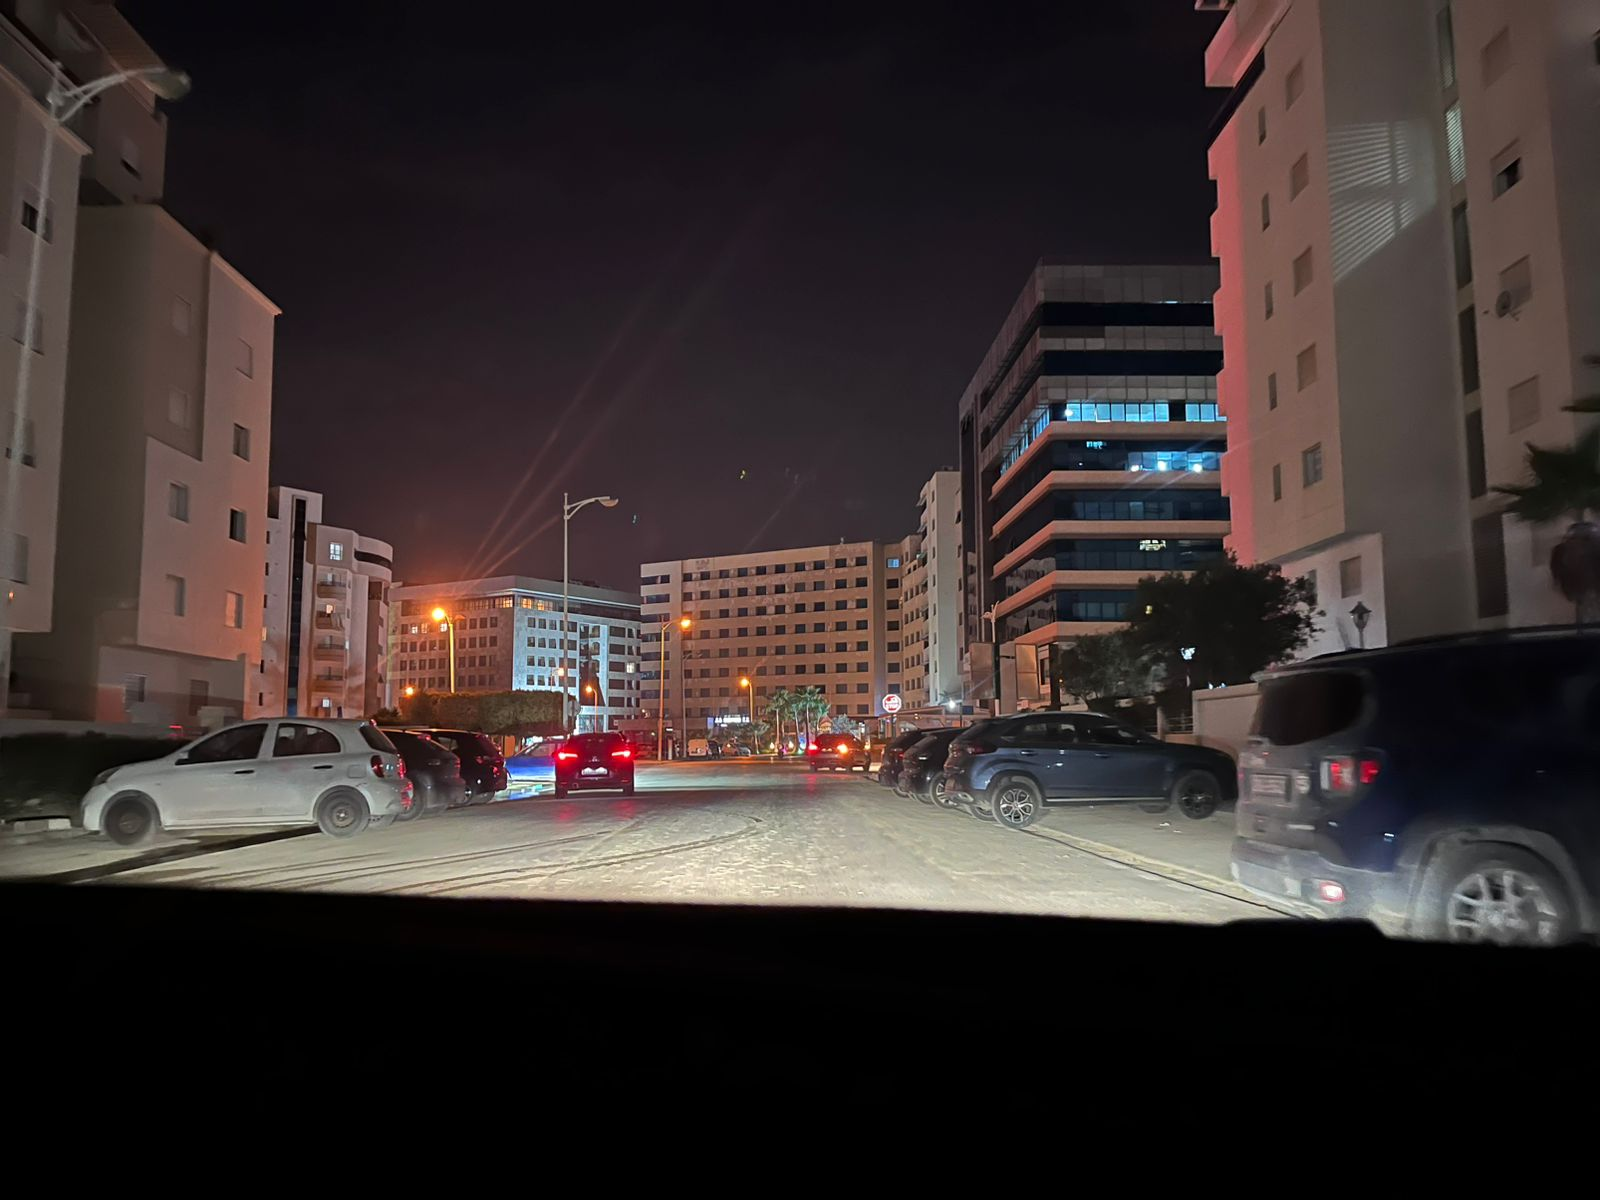Stop: (882, 693, 902, 713)
